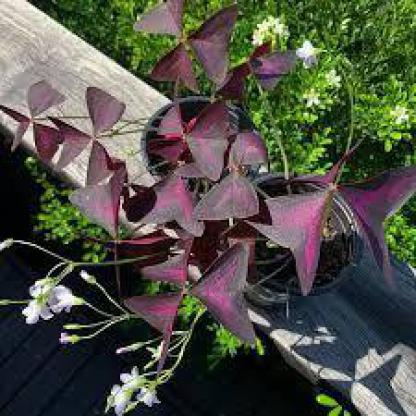Kupu-Kupu: (275, 153, 410, 280), (134, 243, 258, 354), (151, 101, 262, 219), (132, 1, 249, 88), (22, 101, 118, 175)
